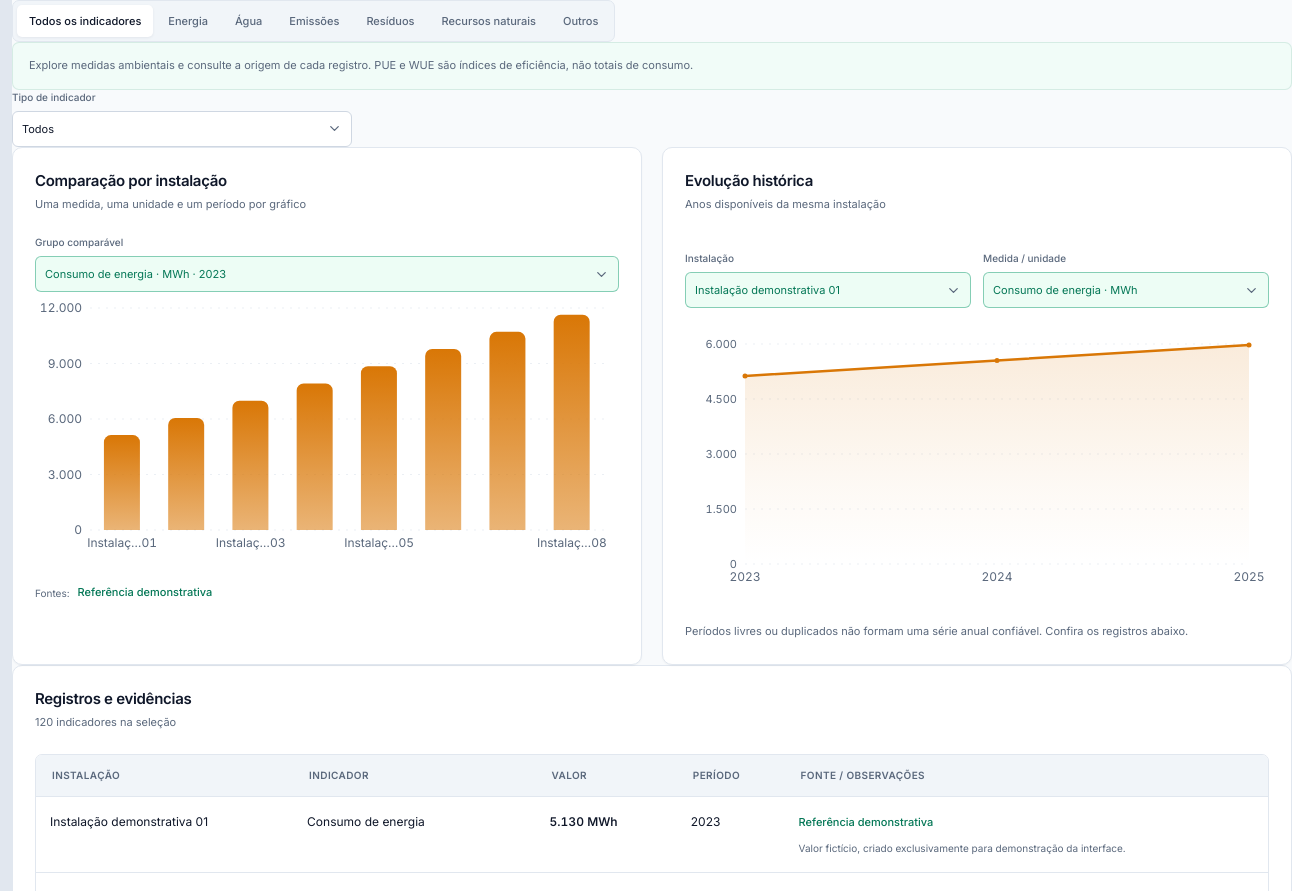
Interactive UI › changes indicator categories and keeps qualitative records
Click the tab "Água": [249, 21] box [223, 5, 274, 37]
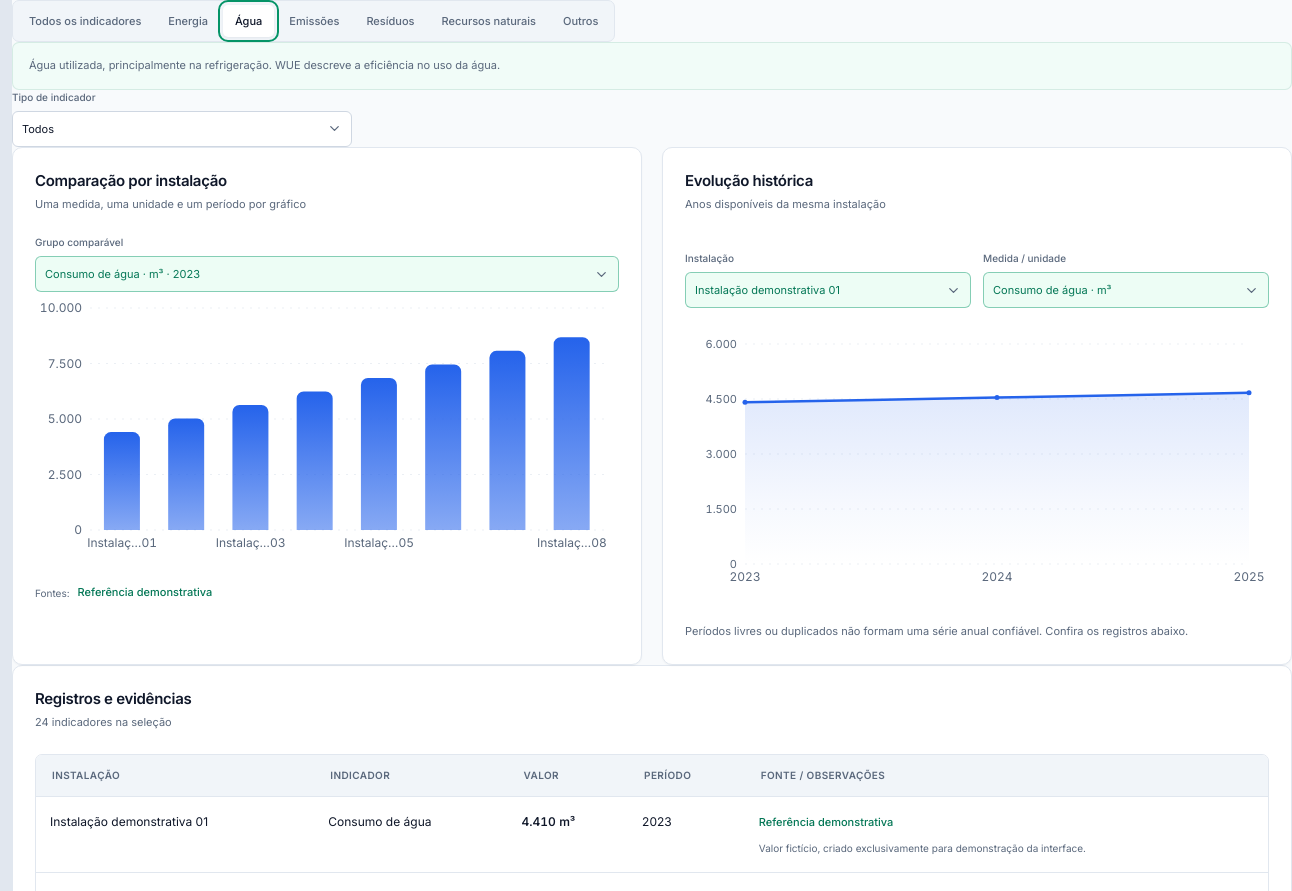
Expected: the text "Consumo de água" next to "4.410" is shown, [328, 814, 432, 829]
Now the text "PUE" is gone
